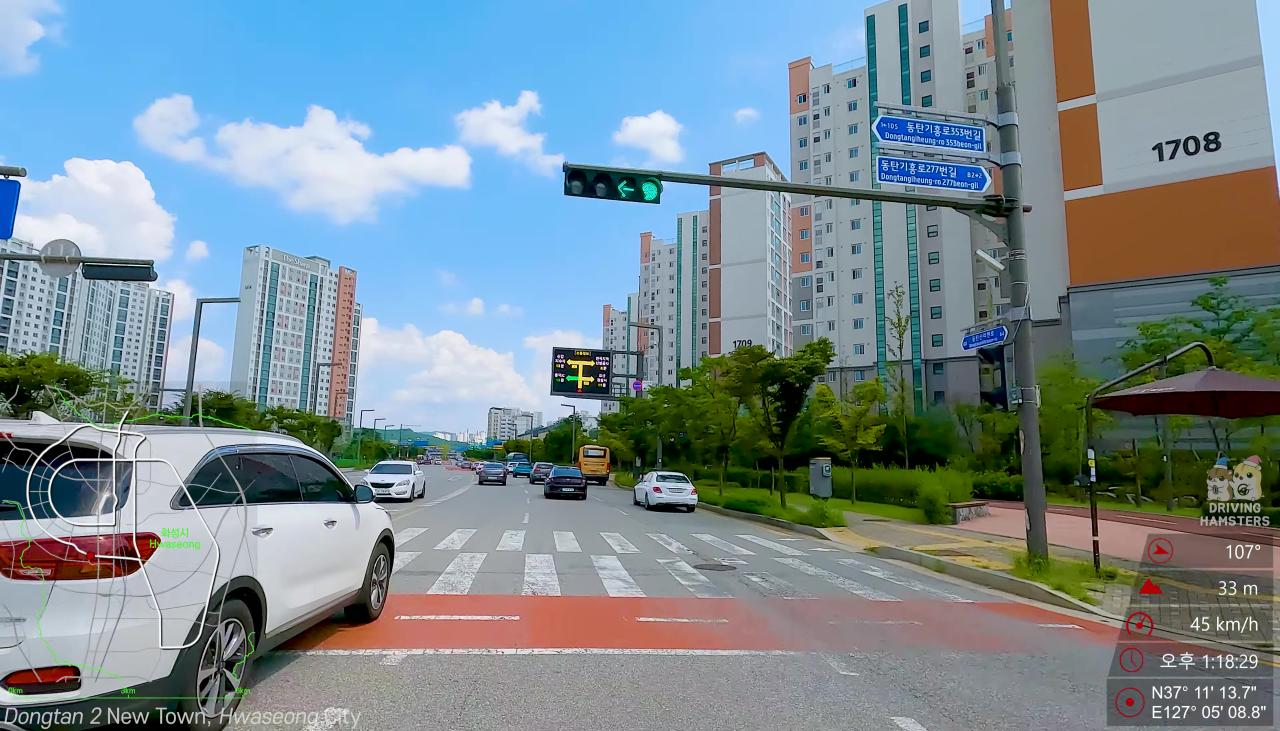Green Light: (641, 177, 660, 202)
Left turn: (616, 178, 636, 200)
